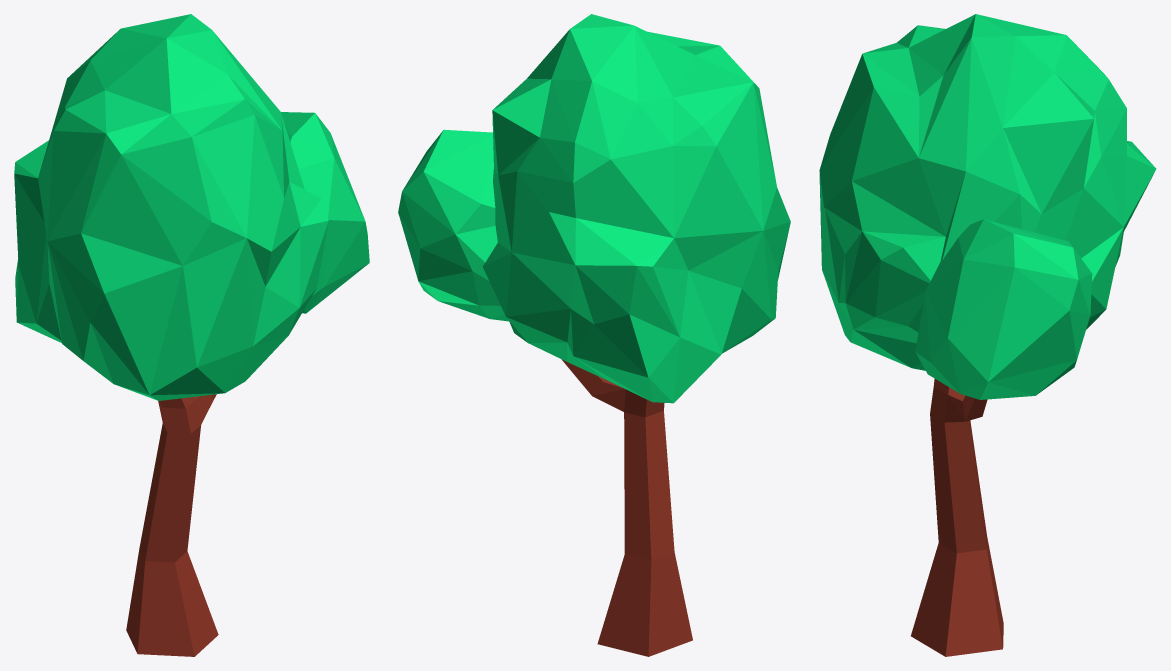
File: tree4.fbx
The picture shows the model from 3 angles, left to right: view 1: azimuth 30°, elevation 25°; view 2: azimuth 150°, elevation 25°; view 3: azimuth 270°, elevation 25°; orthographic projection. The views are drawn at different scales.
Visible parts, largest first — view 1: SM_Generic_Tree_04, SM_Generic_Tree_04.001; view 2: SM_Generic_Tree_04, SM_Generic_Tree_04.001; view 3: SM_Generic_Tree_04, SM_Generic_Tree_04.001.
Part boxes in pixels (bbox=[...]): SM_Generic_Tree_04: bbox=[14, 14, 369, 400]; SM_Generic_Tree_04.001: bbox=[126, 394, 218, 656]; SM_Generic_Tree_04: bbox=[398, 14, 790, 403]; SM_Generic_Tree_04.001: bbox=[561, 359, 692, 656]; SM_Generic_Tree_04: bbox=[819, 14, 1156, 399]; SM_Generic_Tree_04.001: bbox=[911, 379, 1003, 656].
Bounding box in the file's own units: 182 × 322 × 154.
